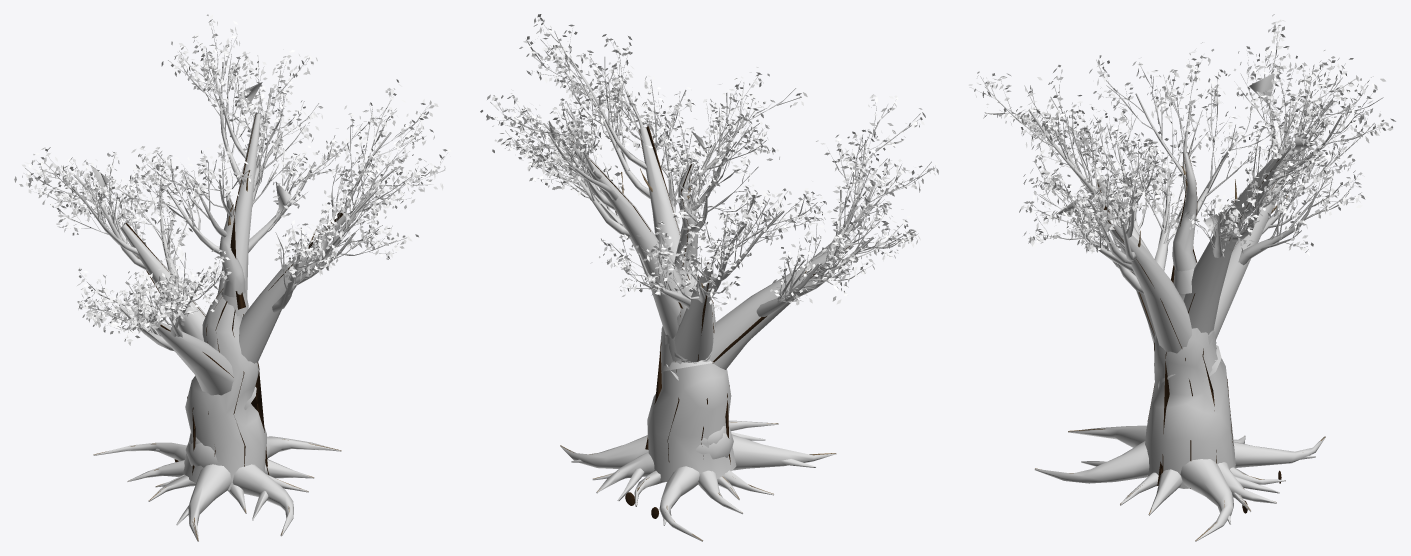
The model's file is ancient_tree_01_lod2.glb.
The picture shows the model from 3 angles, left to right: view 1: azimuth 30°, elevation 25°; view 2: azimuth 150°, elevation 25°; view 3: azimuth 270°, elevation 25°; orthographic projection. The views are drawn at different scales.
Visible parts, largest first — view 1: AncientTreeWood_LOD2, AncientLeaves_LOD2, FineBranches_LOD2, DirectedBarkGrooves_LOD2; view 2: AncientTreeWood_LOD2, AncientLeaves_LOD2, FineBranches_LOD2, DirectedBarkGrooves_LOD2; view 3: AncientTreeWood_LOD2, AncientLeaves_LOD2, FineBranches_LOD2, DirectedBarkGrooves_LOD2.
Boxes of the visible parts, left/top/right/bottom form: AncientTreeWood_LOD2: left=25, top=28, right=444, bottom=541; AncientLeaves_LOD2: left=14, top=14, right=451, bottom=345; FineBranches_LOD2: left=24, top=23, right=447, bottom=336; DirectedBarkGrooves_LOD2: left=126, top=113, right=342, bottom=474; AncientTreeWood_LOD2: left=490, top=30, right=931, bottom=541; AncientLeaves_LOD2: left=480, top=14, right=938, bottom=310; FineBranches_LOD2: left=489, top=18, right=934, bottom=303; DirectedBarkGrooves_LOD2: left=572, top=126, right=849, bottom=464; AncientTreeWood_LOD2: left=980, top=27, right=1383, bottom=541; AncientLeaves_LOD2: left=969, top=14, right=1395, bottom=256; FineBranches_LOD2: left=970, top=26, right=1384, bottom=252; DirectedBarkGrooves_LOD2: left=1097, top=152, right=1279, bottom=488.
Bounding box in the file's own units: 19.99 × 22.16 × 18.51.
